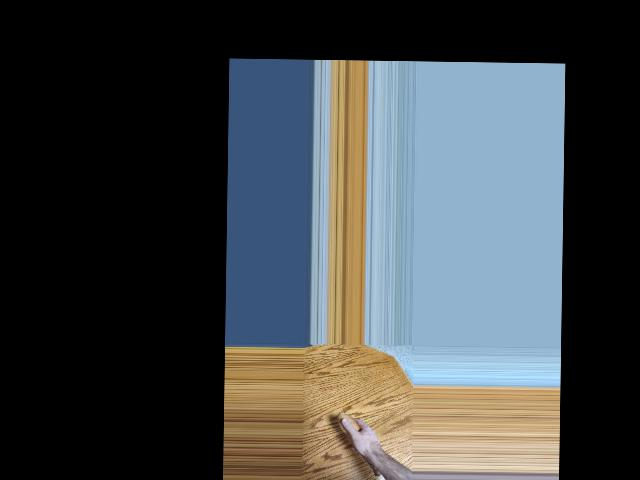sweet_potato: (336, 411, 381, 475)
